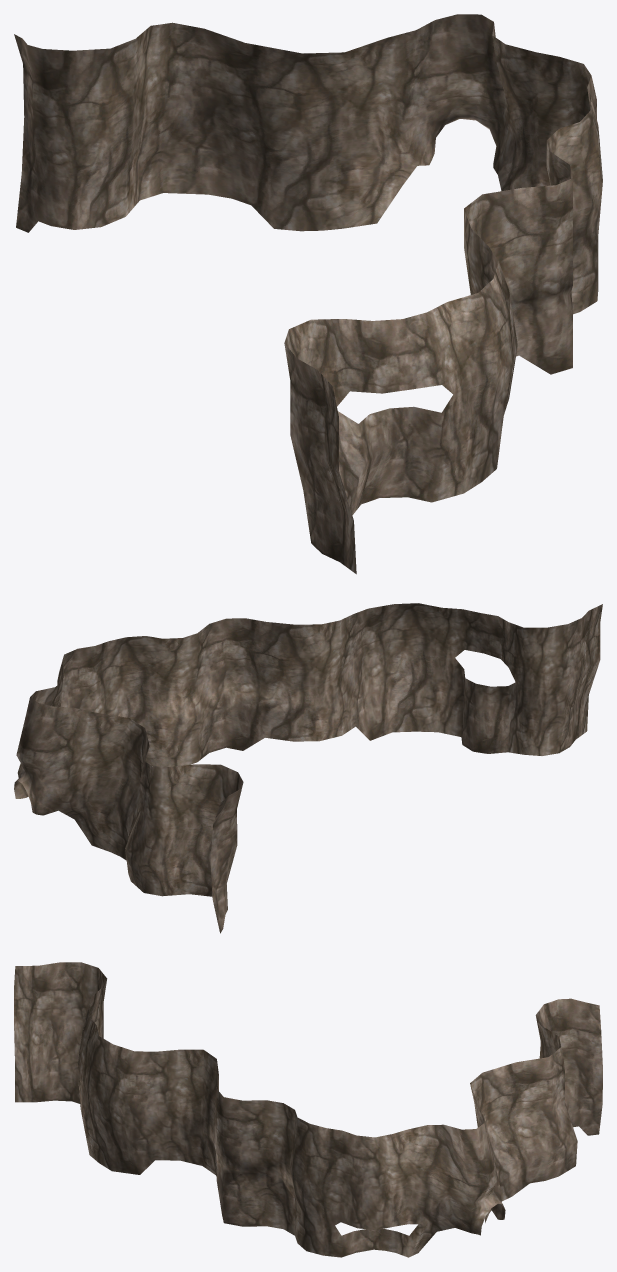
File: EKH_CAVERNS_PS_CA_WALL_ENT3646.fbx
3 renders of one model, top to bottom at view 1: azimuth 30°, elevation 25°; view 2: azimuth 150°, elevation 25°; view 3: azimuth 270°, elevation 25°, orthographic. The views are drawn at different scales.
Parts seen in each view (by area): view 1: EKH_CAVERNS_PS_CA_WALL_ENT3646; view 2: EKH_CAVERNS_PS_CA_WALL_ENT3646; view 3: EKH_CAVERNS_PS_CA_WALL_ENT3646.
Boxes of the visible parts, x1=… form: EKH_CAVERNS_PS_CA_WALL_ENT3646: x1=14, y1=14, x2=602, y2=574; EKH_CAVERNS_PS_CA_WALL_ENT3646: x1=14, y1=603, x2=602, y2=933; EKH_CAVERNS_PS_CA_WALL_ENT3646: x1=14, y1=962, x2=602, y2=1257.
Bounding box in the file's own units: 256668 × 93756 × 370503.
1 material, 1 textured.
